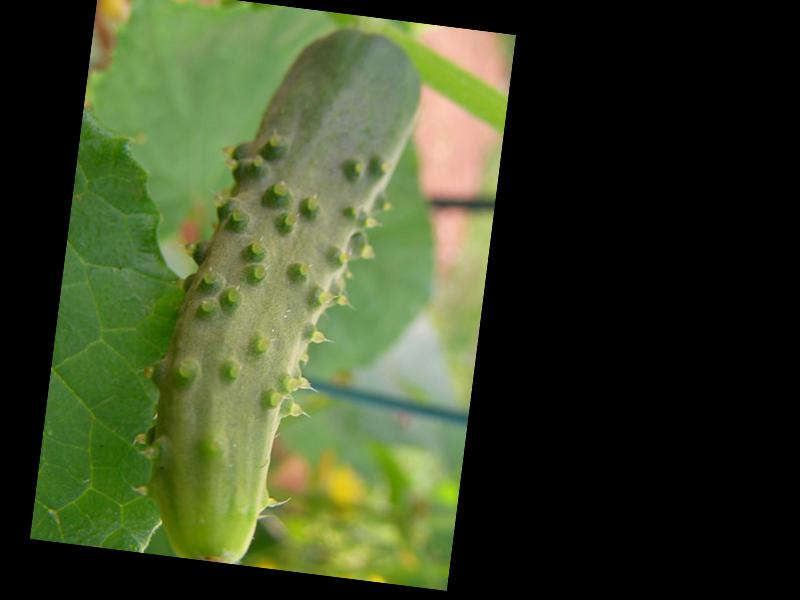Cucumber: (131, 7, 427, 576)
